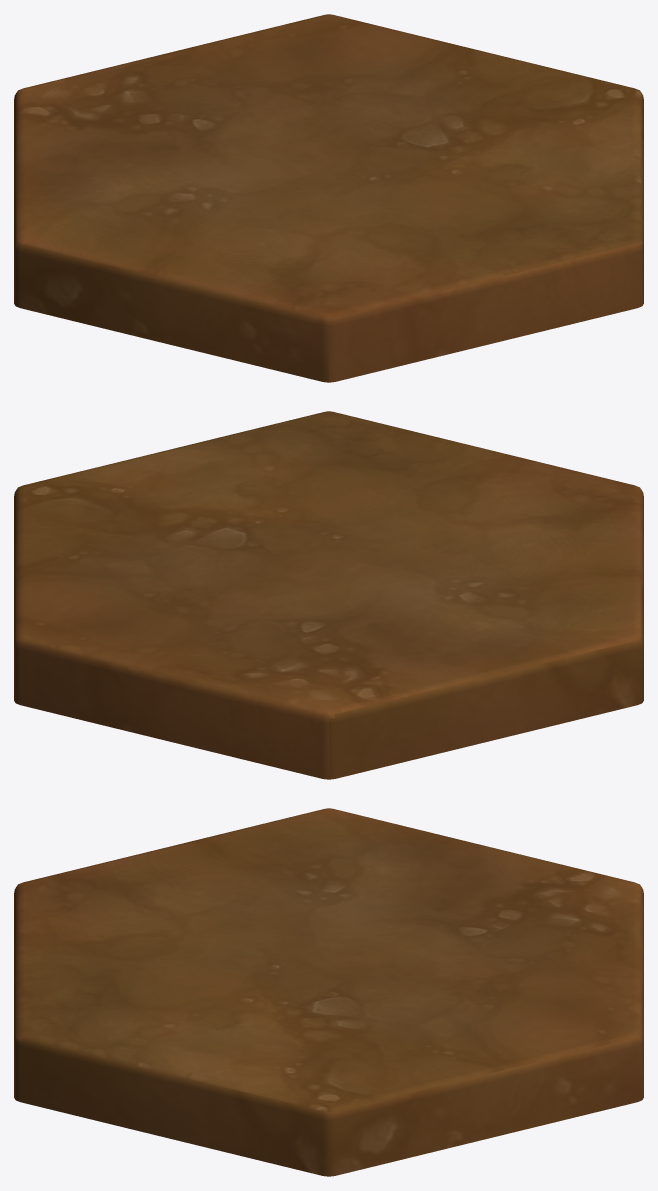
File: Empty_Hex.fbx
3 views of the same model, one above another, from view 1: azimuth 30°, elevation 25°; view 2: azimuth 150°, elevation 25°; view 3: azimuth 270°, elevation 25° (orthographic).
Parts seen in each view (by area): view 1: Cylinder012; view 2: Cylinder012; view 3: Cylinder012.
Part boxes in pixels (<box>): Cylinder012: <box>14,14,643,382</box>; Cylinder012: <box>14,411,643,779</box>; Cylinder012: <box>14,808,643,1176</box>.
Bounding box in the file's own units: 99.5 × 10 × 86.6.
